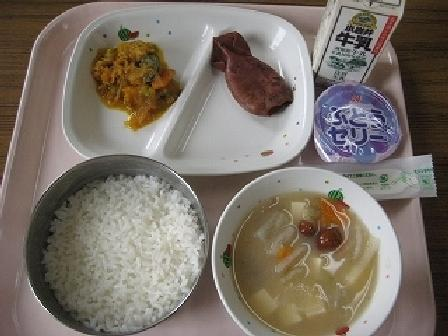Cup desserts: (293, 83, 399, 163)
Milk: (308, 1, 413, 82)
Rice: (26, 152, 200, 317)
Soups: (209, 168, 397, 335)
cooked food meat with vegetables: (78, 38, 172, 131)
